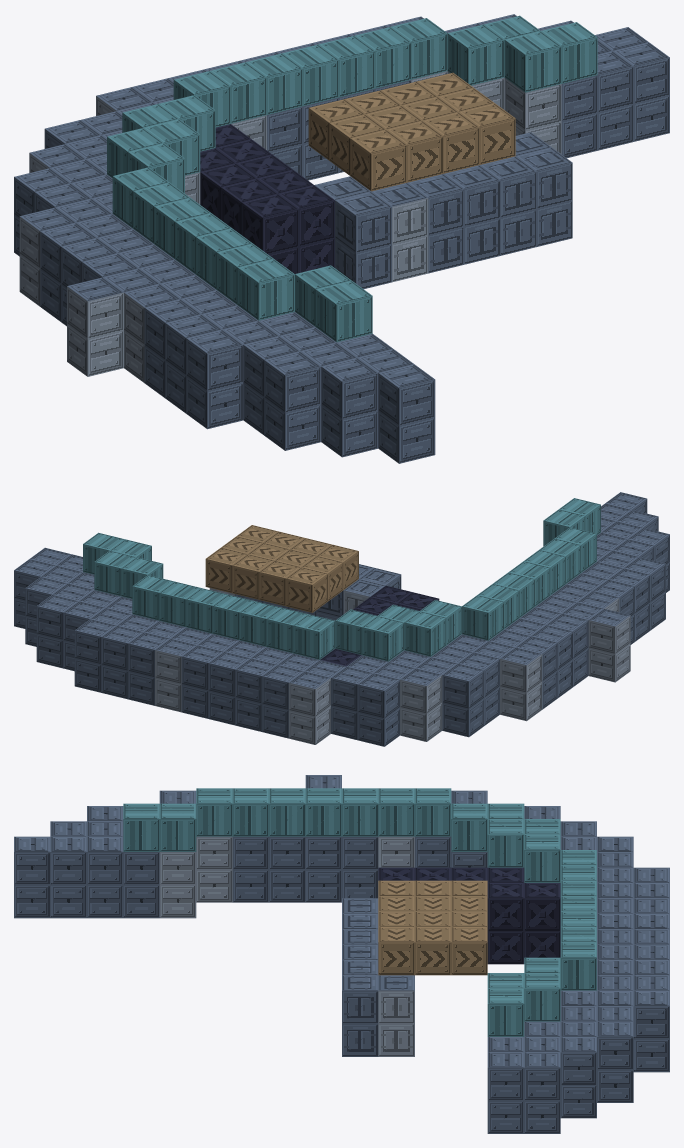
Rendered from relay_fragment.glb.
3 views of the same model, one above another, from view 1: azimuth 30°, elevation 25°; view 2: azimuth 150°, elevation 25°; view 3: azimuth 270°, elevation 25° (orthographic). The views are drawn at different scales.
Visible parts, largest first — view 1: VF_relay_fragment_Body.002; view 2: VF_relay_fragment_Body.002; view 3: VF_relay_fragment_Body.002.
Part boxes in pixels (box(x1,y1,x2,y2)): VF_relay_fragment_Body.002: box(14, 14, 669, 463); VF_relay_fragment_Body.002: box(14, 492, 669, 746); VF_relay_fragment_Body.002: box(14, 775, 669, 1133).
Size of the model in its own units: 5.32 by 0.84 by 5.04.
Materials: 5 (5 with a texture image).
